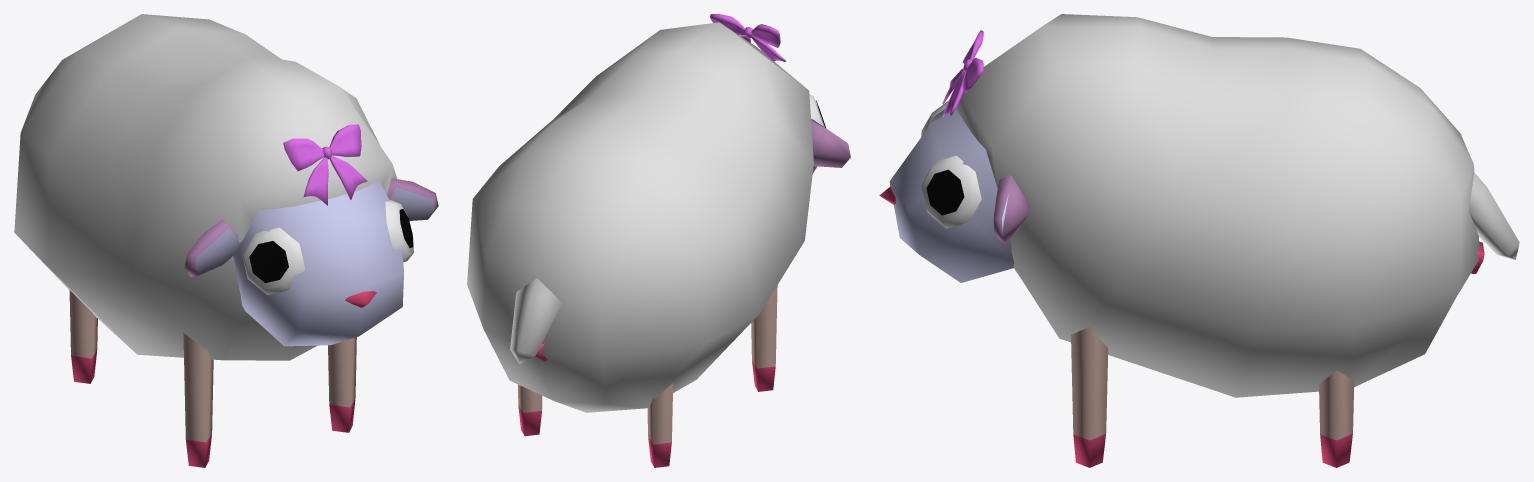
Rendered from Sheep_White_female.fbx.
3 renders of one model, left to right at view 1: azimuth 30°, elevation 25°; view 2: azimuth 150°, elevation 25°; view 3: azimuth 270°, elevation 25°, orthographic. The views are drawn at different scales.
Parts seen in each view (by area): view 1: Sheep; view 2: Sheep; view 3: Sheep.
Part boxes in pixels (<box>): Sheep: <box>14,14,438,467</box>; Sheep: <box>467,14,850,467</box>; Sheep: <box>879,14,1519,467</box>.
Size of the model in its own units: 160 by 196 by 286.
